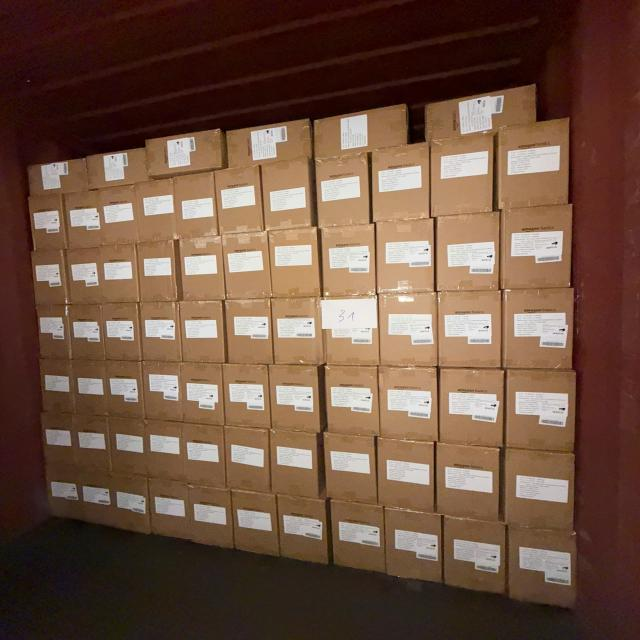Carton: (421, 80, 543, 142), (496, 121, 569, 210), (499, 204, 572, 290), (507, 366, 580, 451), (501, 448, 574, 532), (503, 287, 576, 370), (508, 528, 580, 610), (437, 364, 503, 447), (311, 104, 408, 160), (144, 359, 228, 423), (444, 519, 510, 600), (434, 444, 500, 524), (436, 293, 502, 372), (434, 211, 499, 291), (430, 140, 495, 219), (380, 365, 441, 443), (373, 142, 432, 222), (382, 510, 442, 588), (376, 440, 436, 517), (378, 291, 438, 368), (378, 219, 438, 295), (328, 502, 384, 579), (321, 294, 380, 367), (224, 118, 310, 168), (144, 127, 228, 178), (324, 365, 380, 438), (275, 494, 328, 570), (316, 158, 372, 228), (322, 225, 376, 297), (324, 434, 377, 506), (270, 362, 323, 432), (270, 427, 322, 498), (267, 230, 319, 300), (264, 160, 315, 231), (85, 144, 162, 190), (272, 300, 324, 368), (221, 426, 270, 498), (179, 419, 229, 489), (233, 492, 282, 563), (146, 475, 196, 544), (186, 481, 236, 550), (220, 230, 268, 299), (94, 181, 143, 248), (222, 360, 270, 428), (214, 168, 262, 235), (140, 417, 187, 485), (224, 301, 272, 367), (93, 242, 143, 303), (180, 238, 226, 303), (177, 174, 220, 242), (25, 155, 91, 199), (111, 469, 153, 537), (60, 188, 106, 250), (182, 301, 226, 365), (36, 410, 82, 471), (42, 462, 86, 524), (184, 360, 226, 424), (72, 409, 112, 474), (138, 243, 178, 305), (76, 467, 116, 529), (140, 302, 180, 363), (141, 360, 180, 422), (138, 177, 174, 244), (64, 247, 104, 306), (105, 360, 143, 420), (38, 356, 76, 416), (110, 417, 148, 475), (107, 304, 143, 362), (68, 305, 104, 362), (34, 252, 69, 308), (28, 196, 64, 250), (74, 358, 107, 416), (40, 307, 72, 361)
